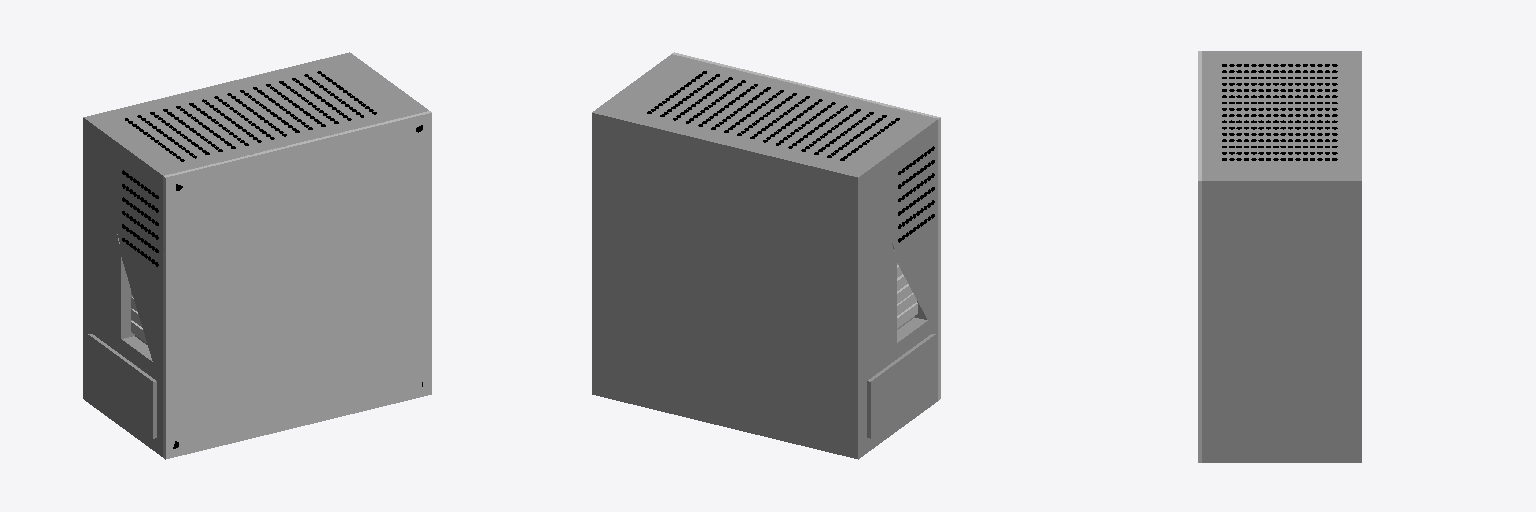
File: Case.obj
3 renders of one model, left to right at view 1: azimuth 30°, elevation 25°; view 2: azimuth 150°, elevation 25°; view 3: azimuth 270°, elevation 25°, orthographic.
Parts seen in each view (by area): view 1: Glass_Cube.036, Case_Cube.001, Vent_Plane, SideSlot_Cube.037, Vent.001_Plane.001; view 2: SideSlot_Cube.037, Case_Cube.001, Vent_Plane, Glass_Cube.036, Vent.001_Plane.001; view 3: Case_Cube.001, Vent_Plane, Glass_Cube.036, SideSlot_Cube.037.
Boxes of the visible parts, <box> form: Glass_Cube.036: <box>163,111,431,459</box>; Case_Cube.001: <box>86,54,428,456</box>; Vent_Plane: <box>125,71,376,161</box>; SideSlot_Cube.037: <box>83,52,351,400</box>; Vent.001_Plane.001: <box>122,170,158,266</box>; SideSlot_Cube.037: <box>592,111,860,459</box>; Case_Cube.001: <box>595,54,937,456</box>; Vent_Plane: <box>647,71,899,160</box>; Glass_Cube.036: <box>672,52,940,400</box>; Vent.001_Plane.001: <box>898,146,934,242</box>; Case_Cube.001: <box>1202,51,1357,462</box>; Vent_Plane: <box>1222,64,1337,160</box>; Glass_Cube.036: <box>1198,51,1201,462</box>; SideSlot_Cube.037: <box>1358,51,1361,462</box>.
Bounding box in the file's own units: 0.5017 × 0.5014 × 0.2648.